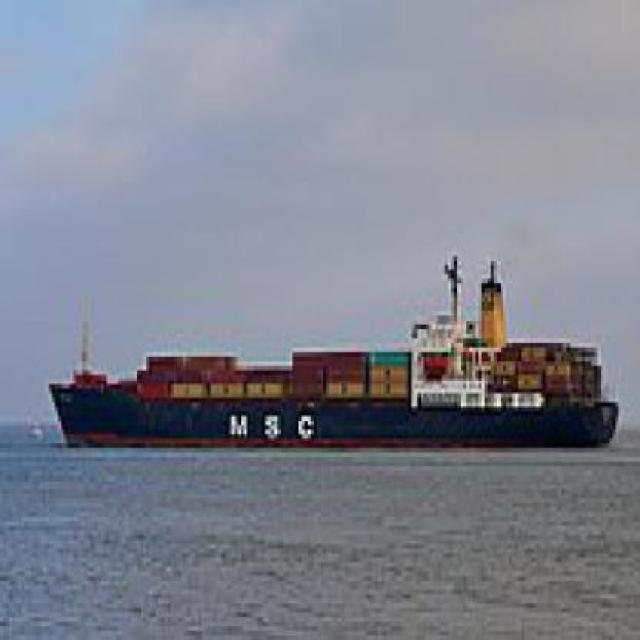container: (41, 243, 627, 459)
